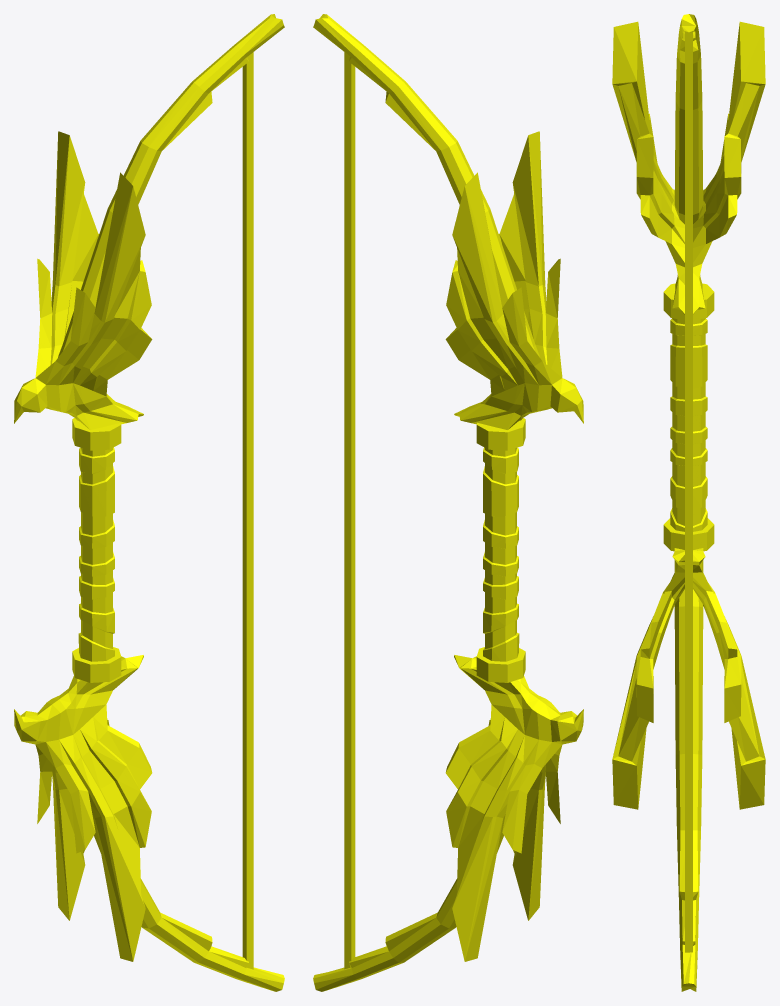
Rendered from _bow_18.glb.
3 renders of one model, left to right at view 1: azimuth 30°, elevation 25°; view 2: azimuth 150°, elevation 25°; view 3: azimuth 270°, elevation 25°, orthographic.
Parts seen in each view (by area): view 1: bow_18; view 2: bow_18; view 3: bow_18.
Part boxes in pixels (box(x1,y1,x2,y2)): bow_18: box(14, 14, 284, 991); bow_18: box(313, 14, 583, 991); bow_18: box(612, 14, 765, 991).
Size of the model in its own units: 0.2934 by 1.01 by 0.1442.
1 material, 1 textured.
